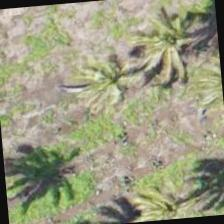Kelapa_Sawit: (70, 28, 168, 126), (98, 0, 197, 97), (122, 162, 217, 222)
